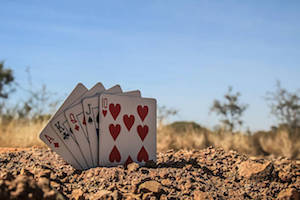AceOfDiamonds: (37, 127, 64, 165)
JackOfSpades: (80, 97, 104, 165)
KingOfClubs: (50, 110, 79, 160)
QueenOfDiamonds: (65, 105, 88, 149)
TenOfHearts: (97, 93, 160, 166)
